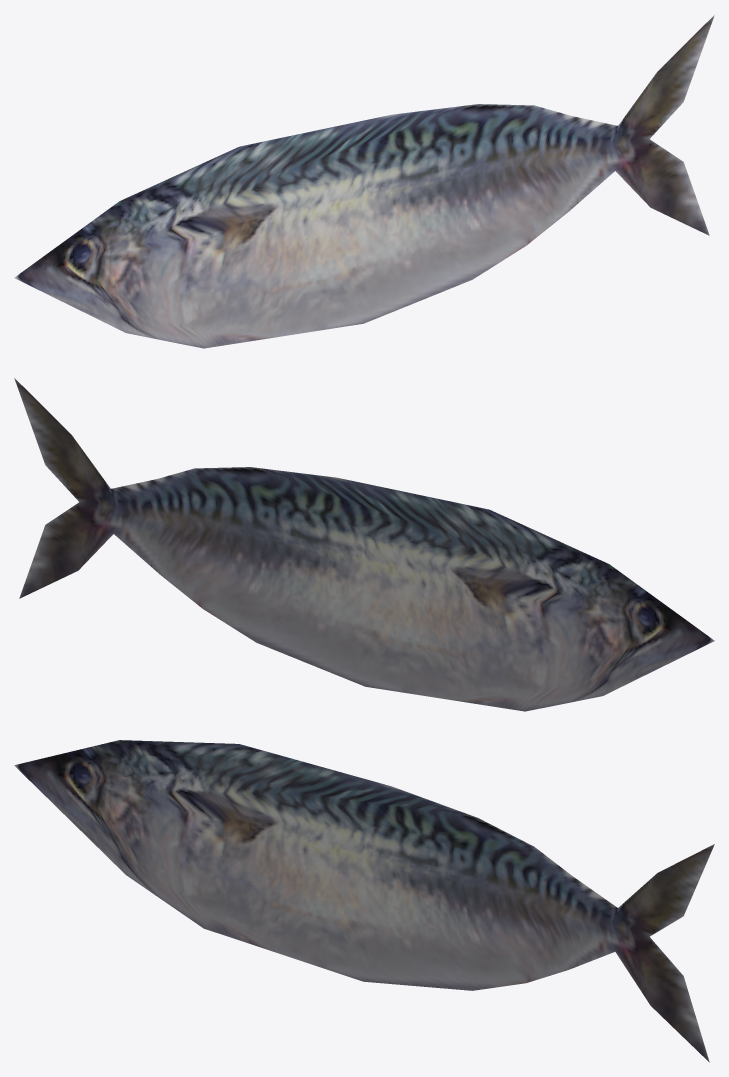
File: saba.fbx
3 renders of one model, top to bottom at view 1: azimuth 30°, elevation 25°; view 2: azimuth 150°, elevation 25°; view 3: azimuth 330°, elevation 25°, orthographic.
Parts seen in each view (by area): view 1: Plane; view 2: Plane; view 3: Plane.
Part boxes in pixels (box(x1,y1,x2,y2)): Plane: box(14, 15, 714, 348); Plane: box(14, 378, 714, 711); Plane: box(14, 740, 714, 1062).
Size of the model in its own units: 511 by 156 by 6.8e-06.
1 material, 1 textured.
